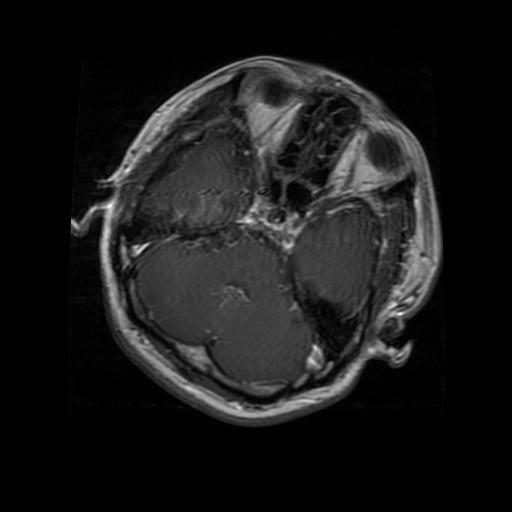Tumour-Glioma: (296, 277, 371, 379)
